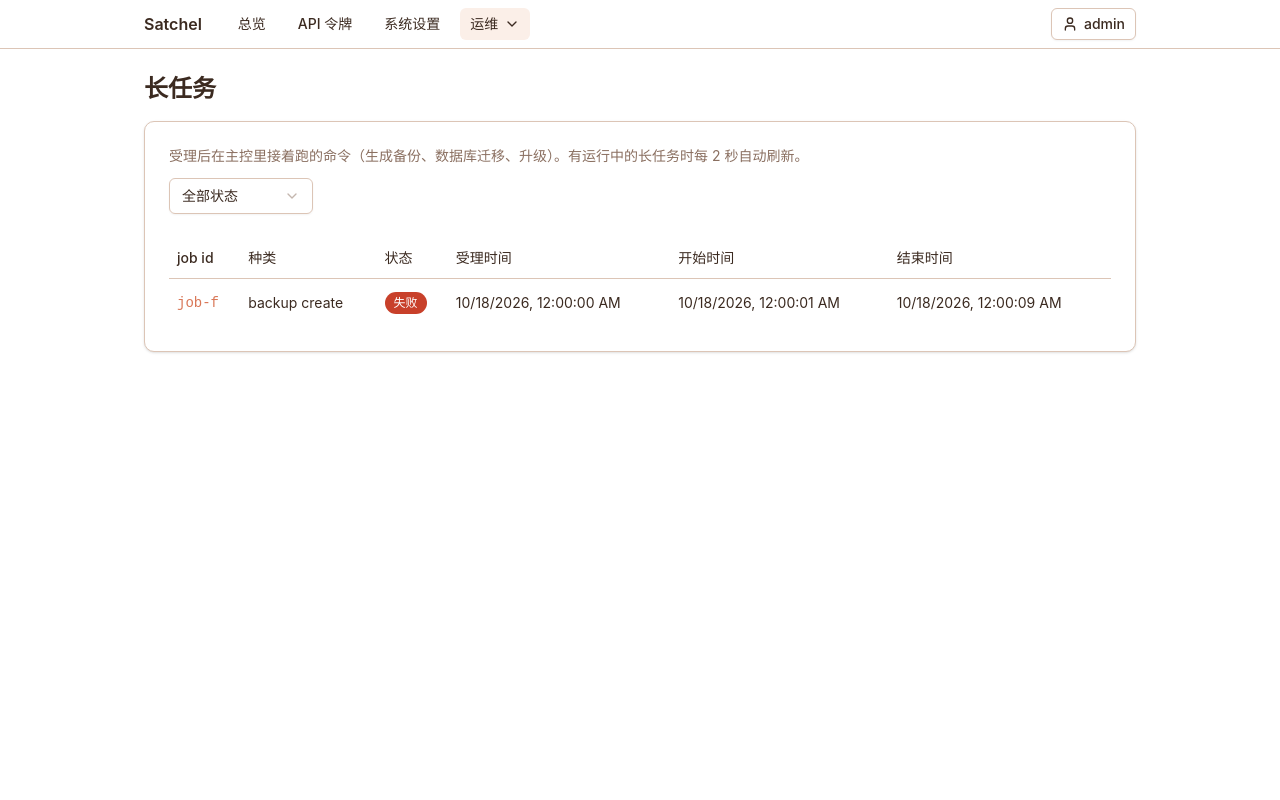
Test: 长任务页 › 看失败的 job：点开后显示 output 里的 reason 与 next
Step 1. Click the button "job-f" → (198, 302), box [177,286,219,318]
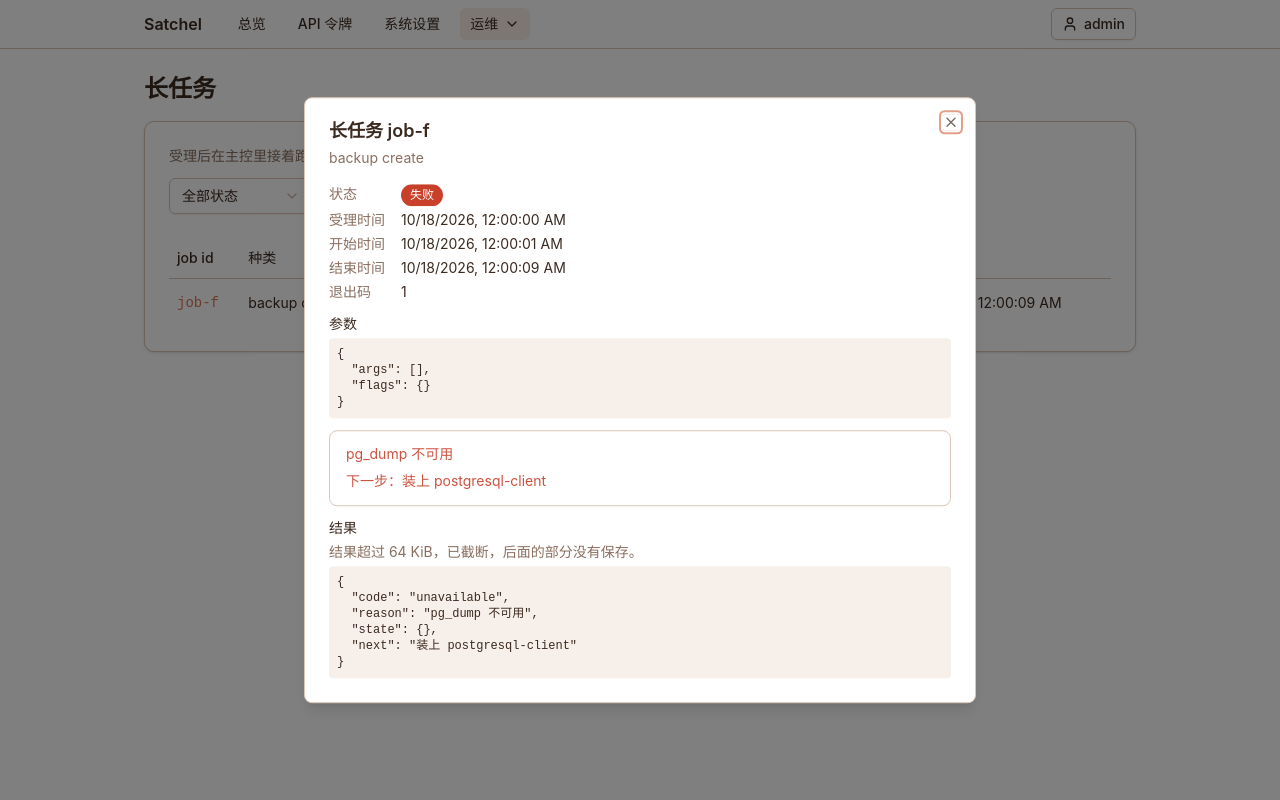
Result: the text "pg_dump 不可用" is shown at [346,443,453,466]
Result: the text "下一步：装上 postgresql-client" is shown at [346,470,546,493]
Result: the text "结果超过 64 KiB，已截断，后面的部分没有保存。" is shown at [329,543,643,560]
